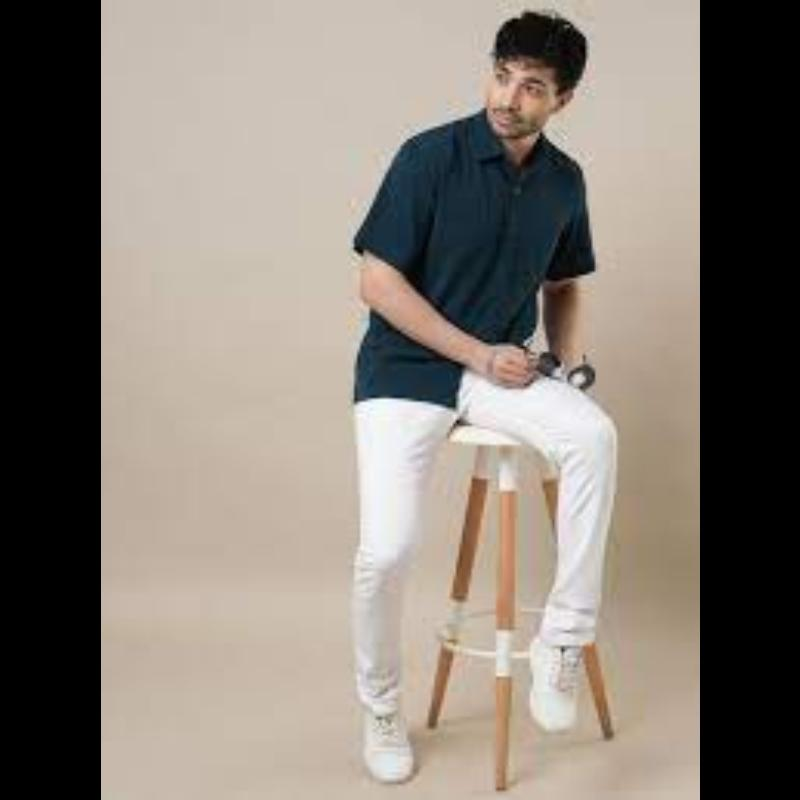Pant: (296, 366, 670, 700)
Shirt: (338, 99, 628, 410)
